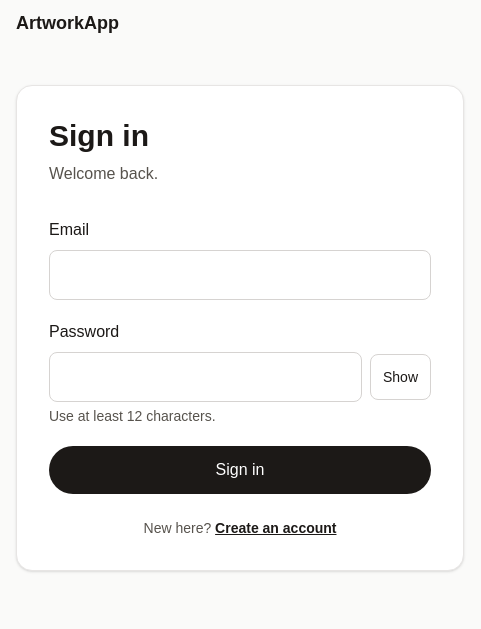
Test: email authentication › handles INVALID_CREDENTIALS without showing server details
The width and height of the screenshot is (481, 629).
In the field labelled "Email": (240, 275) [49,250,431,300], type "person@example.com"
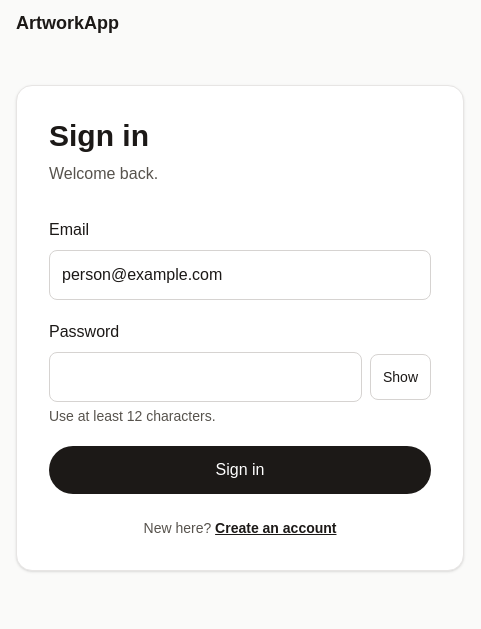
In the password field labelled "Password": (206, 377) [49,352,362,402], type "long-password-123"
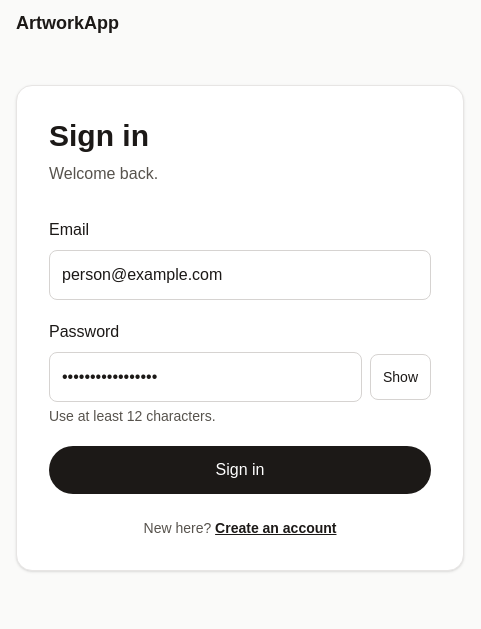
Click the button "Sign in": click(240, 470) [49,446,431,494]
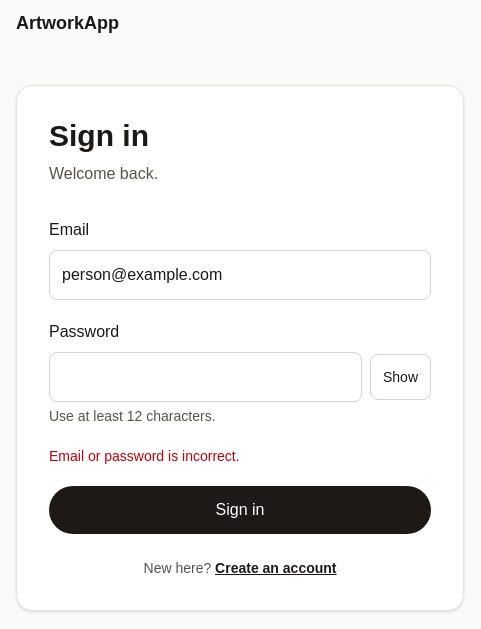
Check: the message reads "Email or password is incorrect.", box [49,448,240,464]
